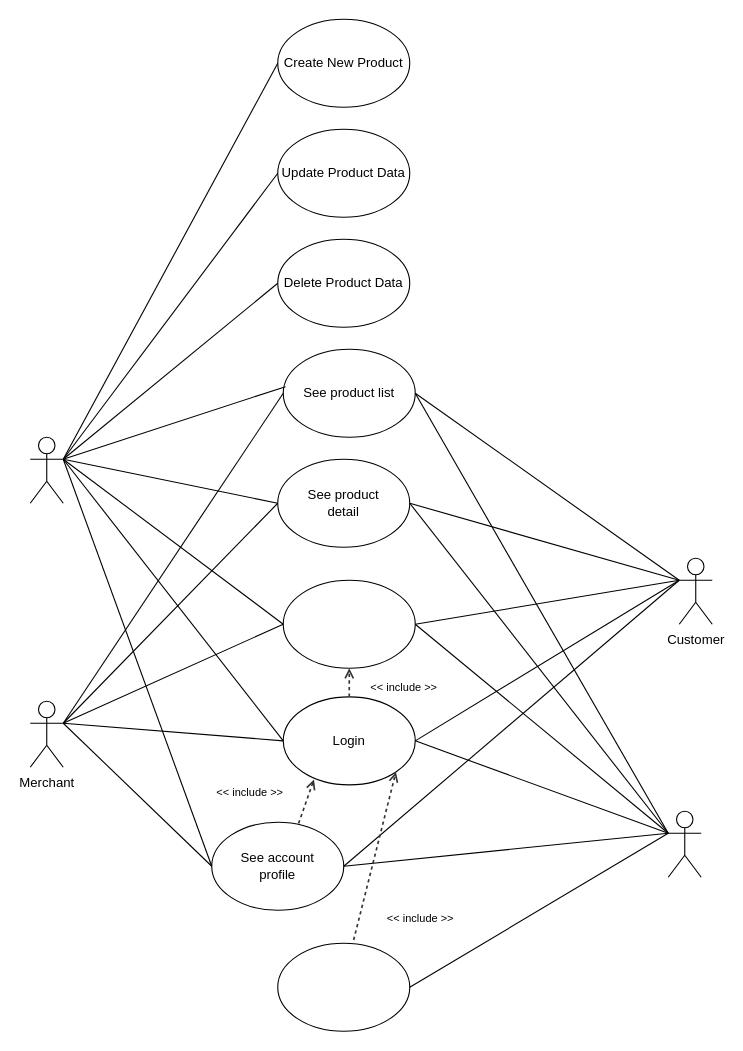
This 743x1051 diagram has some shape labels left out. The shapes that lost their labels are listed below. From the top down, each one's centre as x and y in pixels, then its label:
the point at 46,469: Admin
the point at 348,623: Register
the point at 684,843: Outlet
the point at 343,986: Add product's outlet
